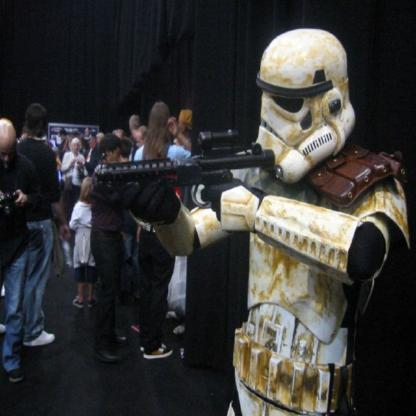Helmet: (252, 28, 362, 181)
